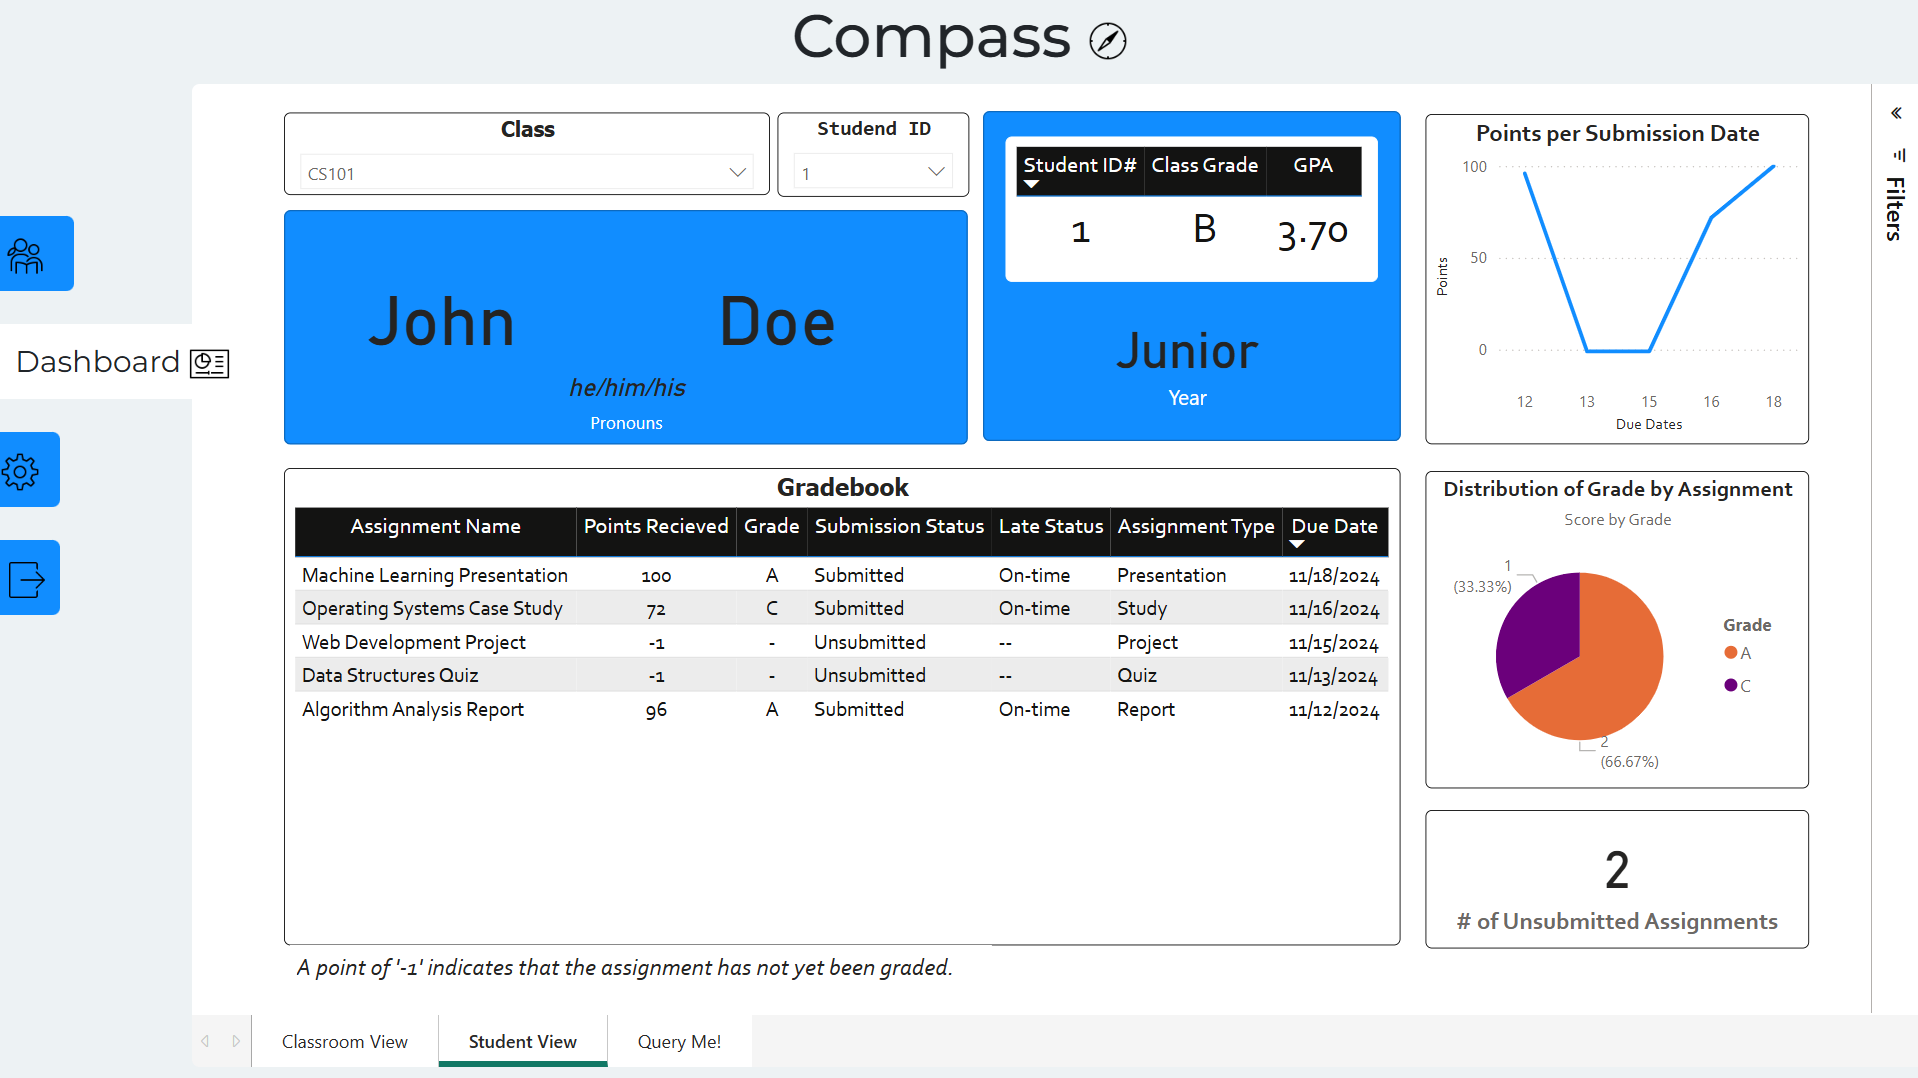

The page's visual inventory and layout, read from the dashboard file:
{"tool":"powerbi","page":{"name":"Student View","canvas":[1280,720],"ordinal":1},"visuals":[{"type":"shape","box":[601.9,21,323.8,255.8],"z":0,"group":"g4"},{"type":"slicer","title":"Studend ID ","fields":{"Values":["public students.studentid"]},"box":[443.3,21.7,148.3,65],"z":0},{"type":"tableEx","fields":{"Values":["public students.studentid","public students.class_grade","public gpa.gpaval"]},"box":[619.2,40.3,288.3,112.9],"z":0,"group":"g1"},{"type":"shape","box":[60.8,97.5,530,181.8],"z":0,"group":"g3"},{"type":"card","fields":{"Values":["Min(public students.first_name)"]},"box":[64.5,104.2,238,141.9],"z":0,"group":"g2"},{"type":"group","id":"g1","title":"Group 4","box":[615.9,40.3,291.6,220.4],"z":1000,"group":"g4"},{"type":"card","fields":{"Values":["Min(public students.last_name)"]},"box":[300.1,104.2,285.9,141.9],"z":1000,"group":"g2"},{"type":"card","fields":{"Values":["Min(public students.student_year_name)"]},"box":[615.9,162.1,288.3,98.6],"z":1000,"group":"g1"},{"type":"card","fields":{"Values":["Min(public students.pronouns)"]},"box":[60.8,208.4,530,71],"z":1000,"group":"g3"},{"type":"tableEx","title":"Gradebook","fields":{"Values":["public assignmentsentry.ass_name","Sum(public assignmentsentry.points)","public assignmentsentry.ass_grade","public assignmentsentry.status","public assignmentsentry.late_status_2","public assignments.assignment_type","public assignmentsentry.due_date"]},"box":[60.8,297.5,865,369.9],"z":1000,"group":"g5"},{"type":"pieChart","title":"Distribution of Grade by Assignment","fields":{"Y":["Count(public assignmentsentry.points)"],"Category":["public assignmentsentry.ass_grade"]},"box":[945.2,299.5,297.1,245.7],"z":1000},{"type":"group","id":"g2","title":"Group 1","box":[64.5,104.2,521.4,141.9],"z":2000,"group":"g3"},{"type":"card","fields":{"Values":["CountNonNull(public assignmentsentry.status)"]},"box":[945.2,562.4,297.1,107.1],"z":2000},{"type":"group","id":"g3","title":"Group 2","box":[60.8,97.5,529.2,181.7],"z":3000},{"type":"slicer","title":"Class","fields":{"Values":["public classes.class_name"]},"box":[60.8,22.5,376.7,64.2],"z":4000},{"type":"textbox","box":[65.9,667.5,544.1,35],"z":4000,"group":"g5"},{"type":"group","id":"g4","title":"Group 3","box":[601.9,21,323.8,255.8],"z":5000},{"type":"lineChart","title":"Points per Submission Date","fields":{"Y":["Avg(public assignmentsentry.points)"],"Category":["public assignments.due_date.Variation.Date Hierarchy.Day"]},"box":[945.7,22.9,297.1,255.7],"z":6000},{"type":"group","id":"g5","title":"Group 5","box":[60.8,297.5,865,405],"z":7000}]}

Visuals, with their boxes on the page's 1280x720 design canvas (x1, y1, x2, y2). These are canvas units, not pixel positions in the 1918x1078 screenshot, which may show the page scaled, cropped or inside an application window:
shape: x1=602, y1=21, x2=926, y2=277
"Studend ID " slicer: x1=443, y1=22, x2=592, y2=87
tableEx - public students.studentid x public students.class_grade: x1=619, y1=40, x2=908, y2=153
shape: x1=61, y1=98, x2=591, y2=279
card - Min(public students.first_name): x1=64, y1=104, x2=302, y2=246
"Group 4" group: x1=616, y1=40, x2=908, y2=261
card - Min(public students.last_name): x1=300, y1=104, x2=586, y2=246
card - Min(public students.student_year_name): x1=616, y1=162, x2=904, y2=261
card - Min(public students.pronouns): x1=61, y1=208, x2=591, y2=279
"Gradebook" tableEx: x1=61, y1=298, x2=926, y2=667
"Distribution of Grade by Assignment" pieChart: x1=945, y1=300, x2=1242, y2=545
"Group 1" group: x1=64, y1=104, x2=586, y2=246
card - CountNonNull(public assignmentsentry.status): x1=945, y1=562, x2=1242, y2=670
"Group 2" group: x1=61, y1=98, x2=590, y2=279
"Class" slicer: x1=61, y1=22, x2=438, y2=87
textbox: x1=66, y1=668, x2=610, y2=702
"Group 3" group: x1=602, y1=21, x2=926, y2=277
"Points per Submission Date" lineChart: x1=946, y1=23, x2=1243, y2=279
"Group 5" group: x1=61, y1=298, x2=926, y2=702
